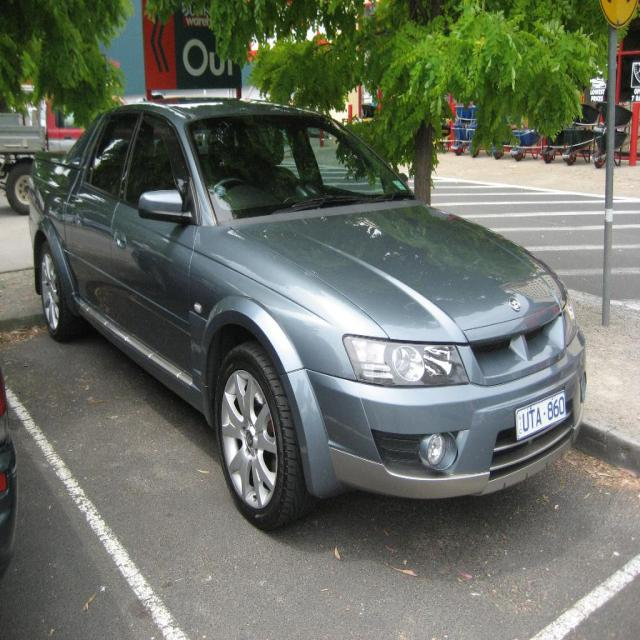car: (16, 95, 595, 527)
